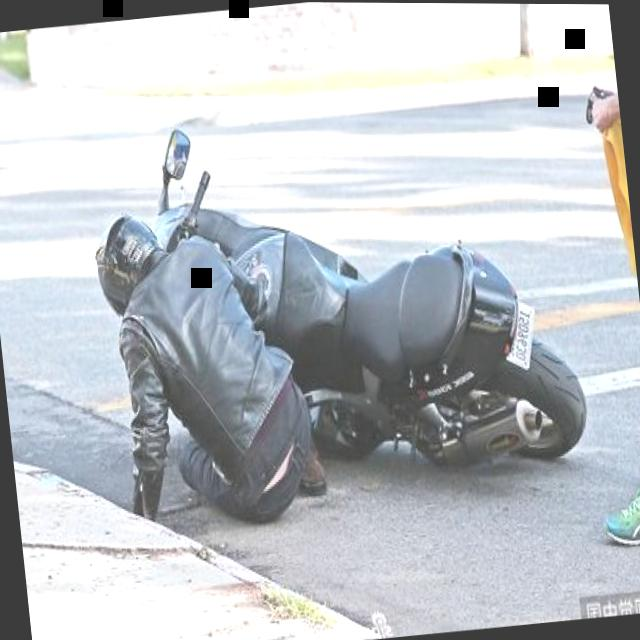Fall-Detected: (82, 175, 338, 549)
